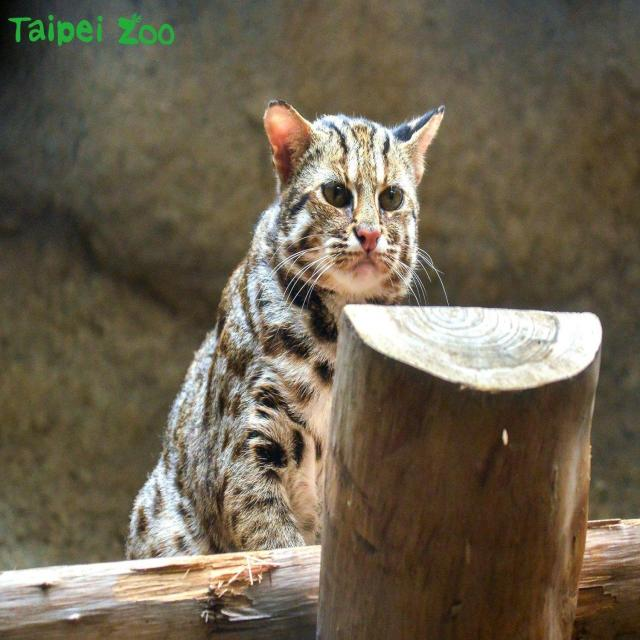leopard: (268, 106, 431, 295), (229, 290, 331, 565)
